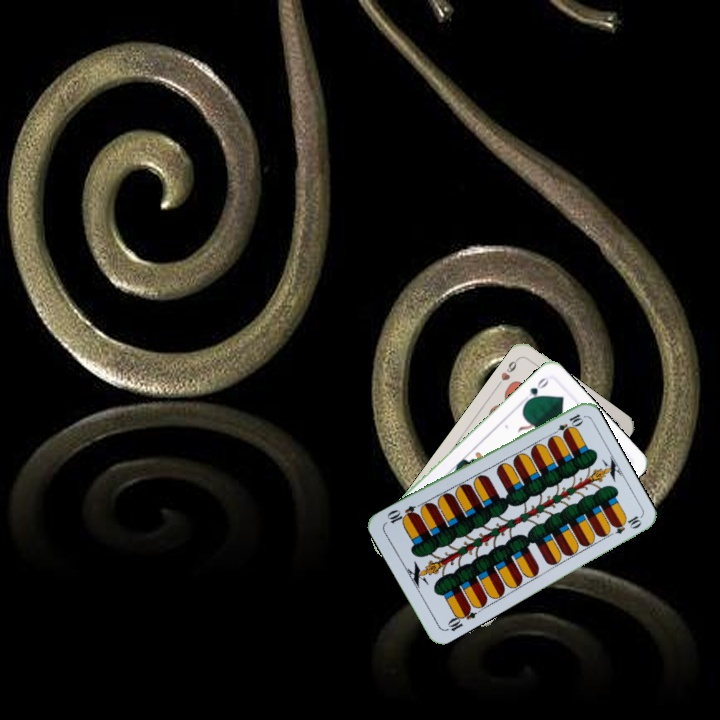E10: (442, 603, 479, 634), (547, 410, 585, 439)
GO: (518, 373, 551, 407)
H9: (493, 354, 522, 389)
